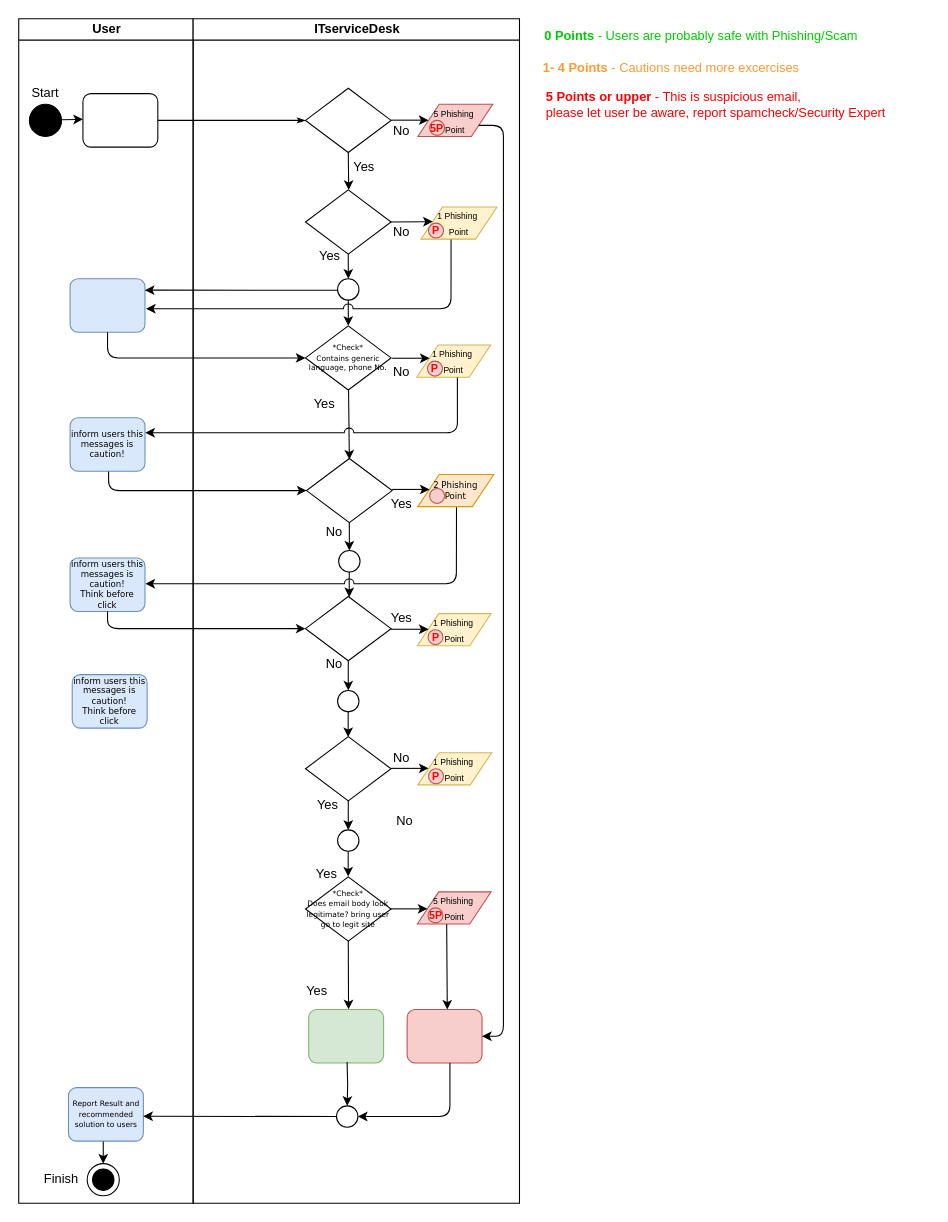
This 948x1222 diagram has some shape labels left out. The shapes that lost their labels are listed below. From the top down, each one's centre as x and y in pixels, then its label:
At point (120, 120): "report Suspicious email to spamcheck".
At point (347, 119): "Check Sender, subject & Header details that come from trusting source".
At point (347, 221): "*Check* Is it from someone user know".
At point (107, 305): "Recommend user call to him/her make sure they are indeed".
At point (348, 490): "*Check* Ask user to send password, money transfer, credentials, financials".
At point (437, 495): "2P".
At point (347, 628): "*Check* Identify is the msg contain a Link or URLs?".
At point (347, 768): "*Check* Does Hyperlink or URLs getting to true destination?".
At point (346, 1035): "Users are safe from Phishing/Scam/ Malware 0 Phishing Point".
At point (444, 1035): "Users are on phishing/Scam cause This is suspicious email".
